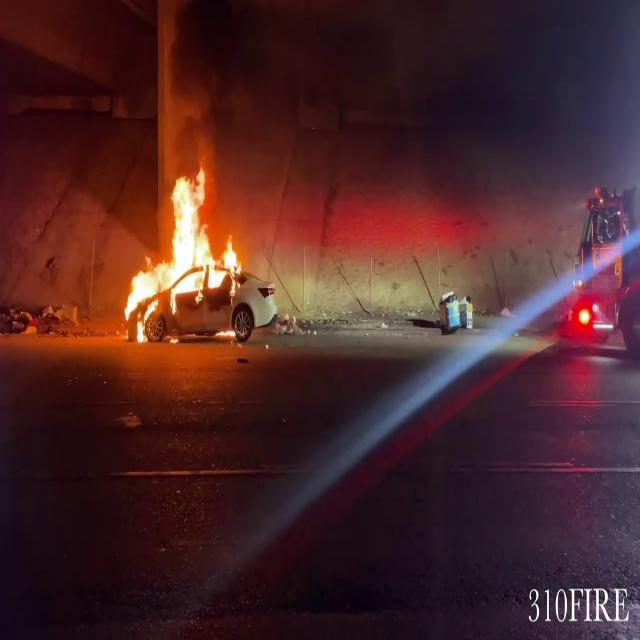Fire: (117, 164, 243, 338)
Smoke: (136, 0, 635, 245)
